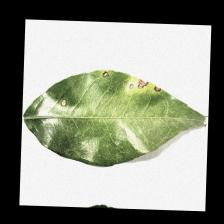canker: (50, 68, 164, 116)
